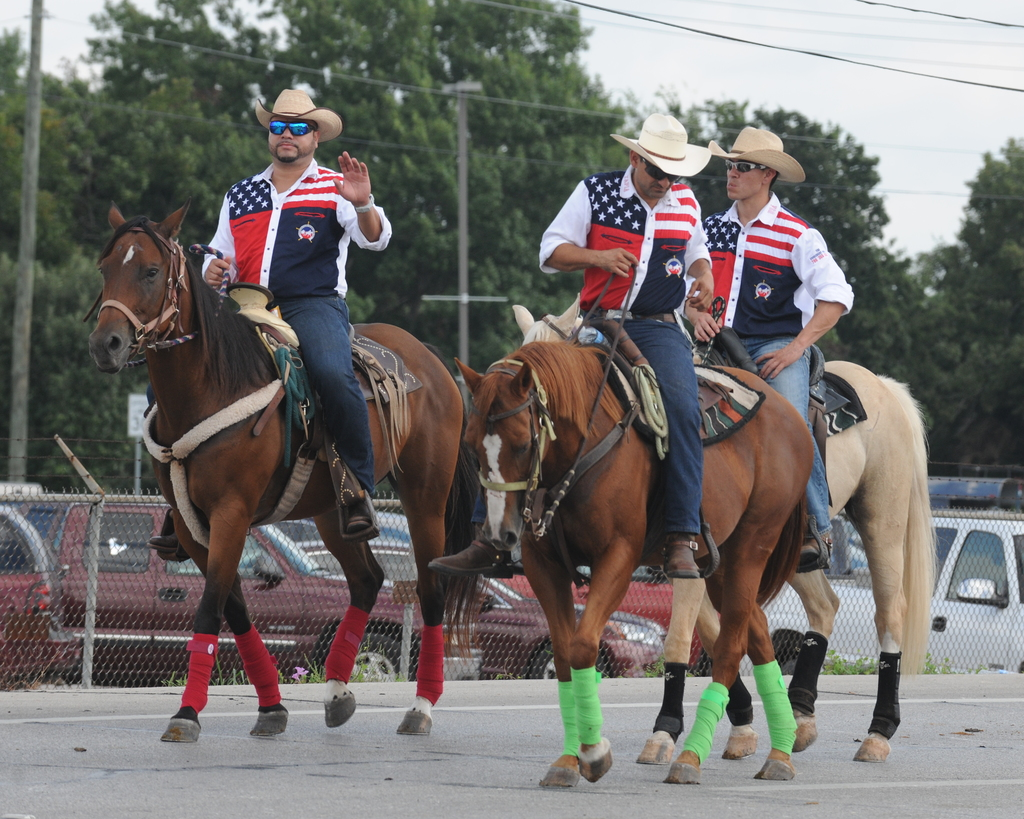horse: (85, 198, 494, 747), (511, 288, 946, 775), (452, 336, 808, 789)
